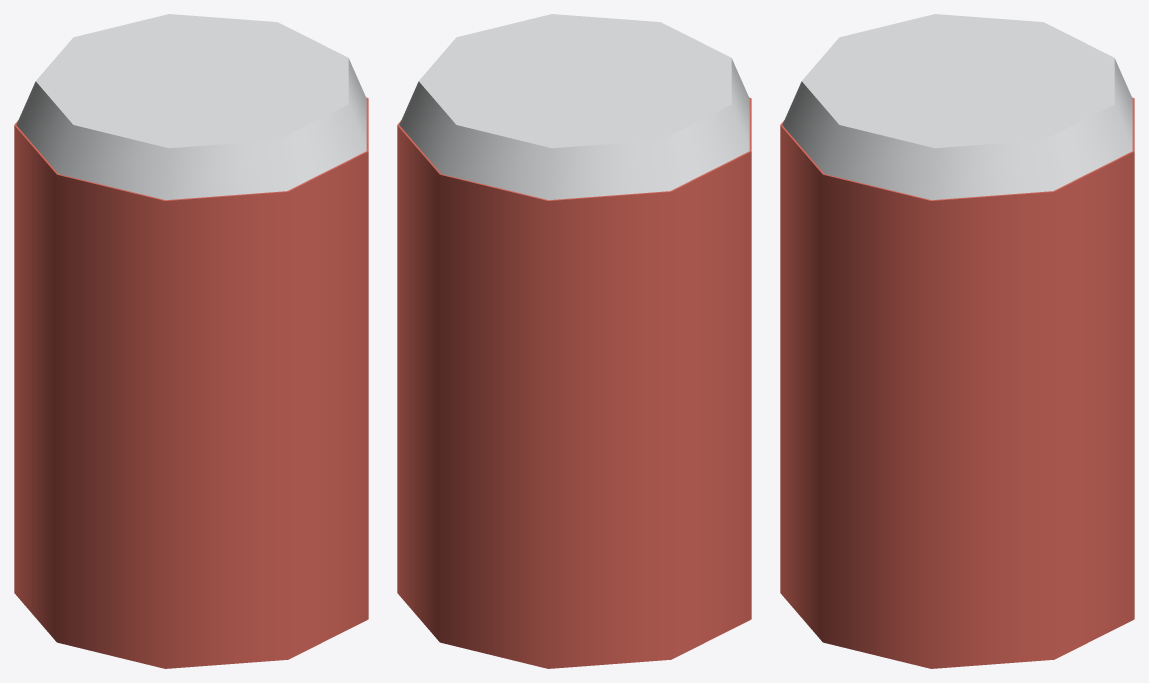
Rendered from cola.glb.
The picture shows the model from 3 angles, left to right: view 1: azimuth 30°, elevation 25°; view 2: azimuth 150°, elevation 25°; view 3: azimuth 270°, elevation 25°; orthographic projection.
Parts seen in each view (by area): view 1: cola; view 2: cola; view 3: cola.
Boxes of the visible parts, box(x1,y1,x2,y2) form: cola: box(14, 14, 368, 668); cola: box(397, 14, 751, 668); cola: box(780, 14, 1134, 668).
Bounding box in the file's own units: 0.3348 × 0.525 × 0.3297.
